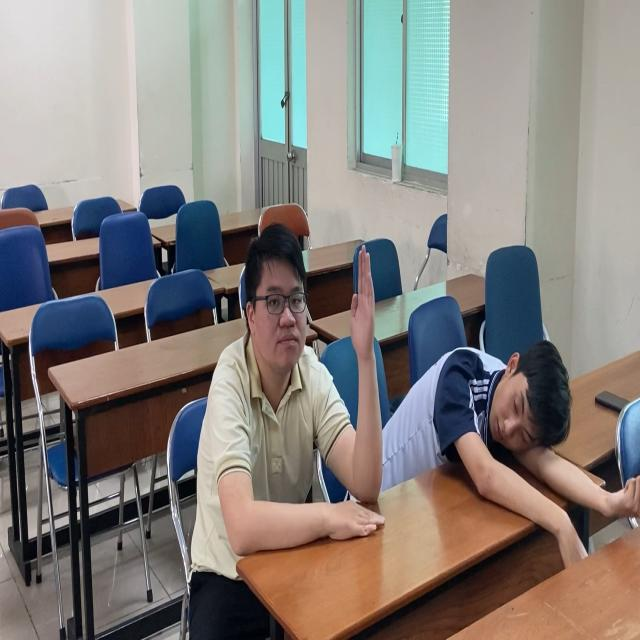raise_hand: (214, 218, 376, 554)
sleep: (394, 317, 575, 522)
